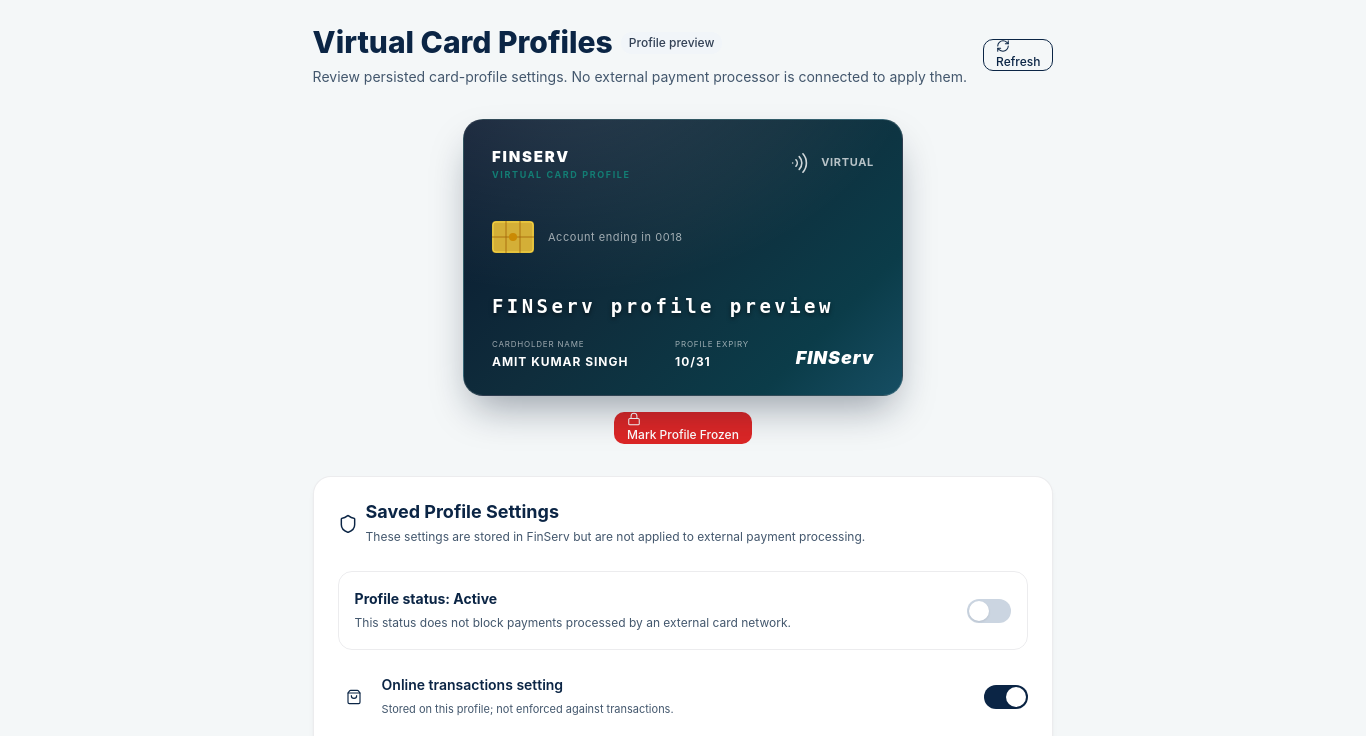
Test: CardsPage › persists profile status changes without claiming payment-network enforcement
expect the text "Mark Profile Frozen" is shown: met, box x1=627 y1=412 x2=739 y2=444
Step 1. Click the button "Mark Profile Frozen" → click(683, 428), box x1=614 y1=412 x2=752 y2=444
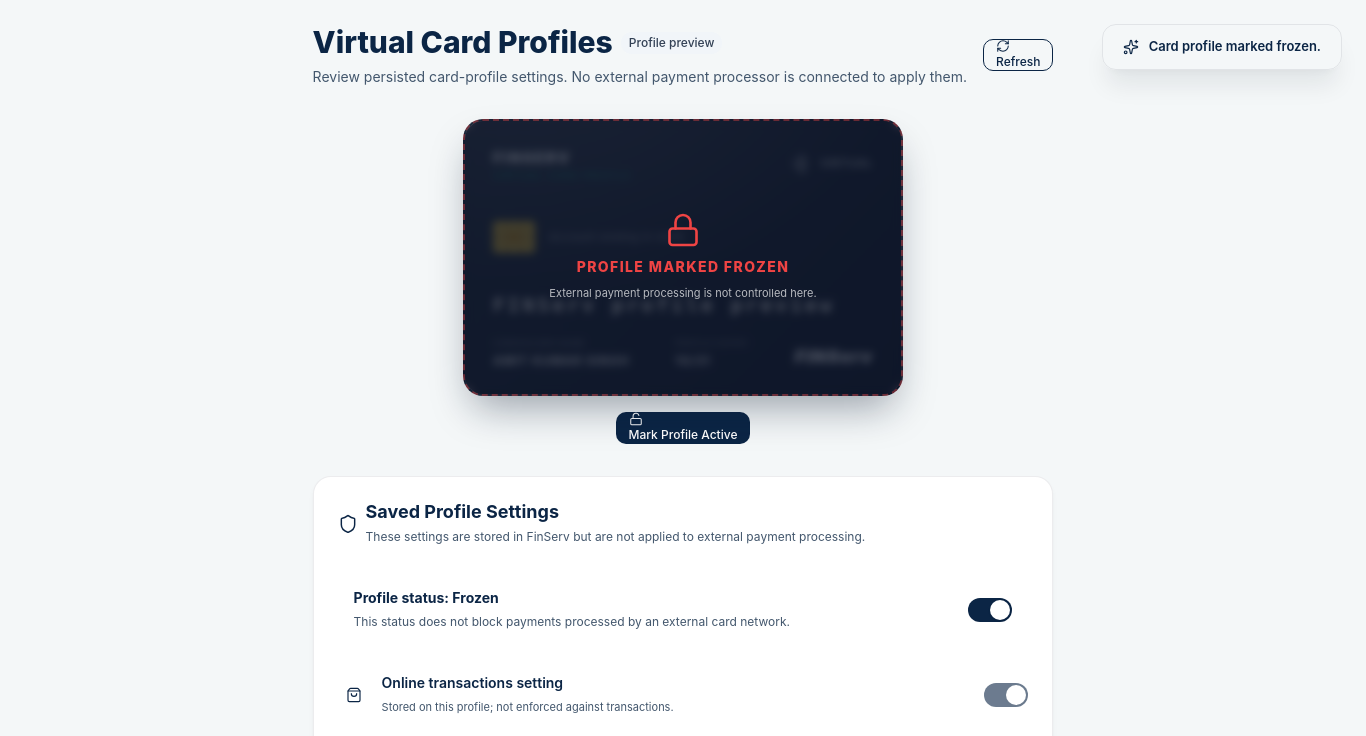
expect the text "does not block payments processed by an external card network" is shown: met, box x1=354 y1=614 x2=790 y2=629
expect the text "Profile Marked Frozen" is shown: met, box x1=577 y1=256 x2=789 y2=278
